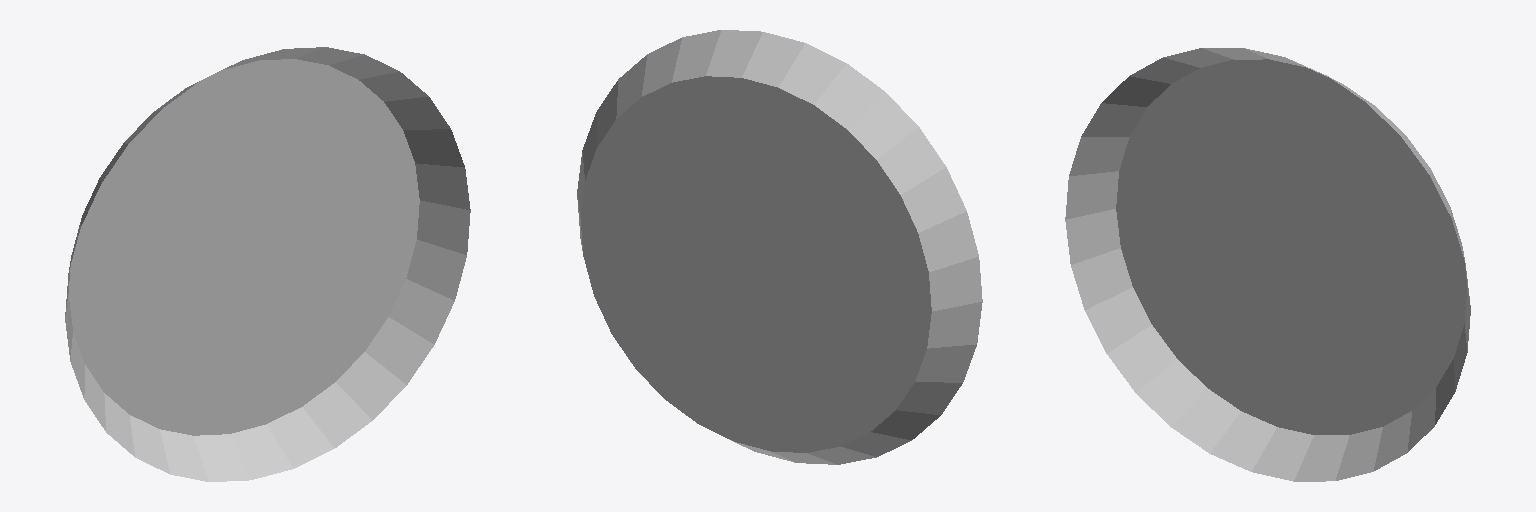
The model's file is complex_land_for_light_grass.obj.
3 renders of one model, left to right at view 1: azimuth 30°, elevation 25°; view 2: azimuth 150°, elevation 25°; view 3: azimuth 330°, elevation 25°, orthographic.
Parts seen in each view (by area): view 1: grass; view 2: grass; view 3: grass.
Boxes of the visible parts, x1,y1,x2,y2 form: grass: [65, 47, 470, 481]; grass: [577, 30, 982, 464]; grass: [1065, 48, 1470, 481].
Size of the model in its own units: 200 by 199 by 20.2.